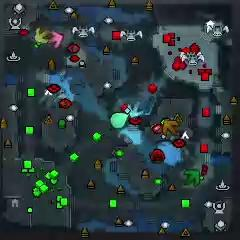p2: (110, 112, 129, 130)
x1: (48, 32, 64, 47)
x2: (34, 28, 51, 44)
x3: (128, 101, 144, 118)
x4: (184, 169, 200, 185)
x5: (162, 120, 179, 136)
